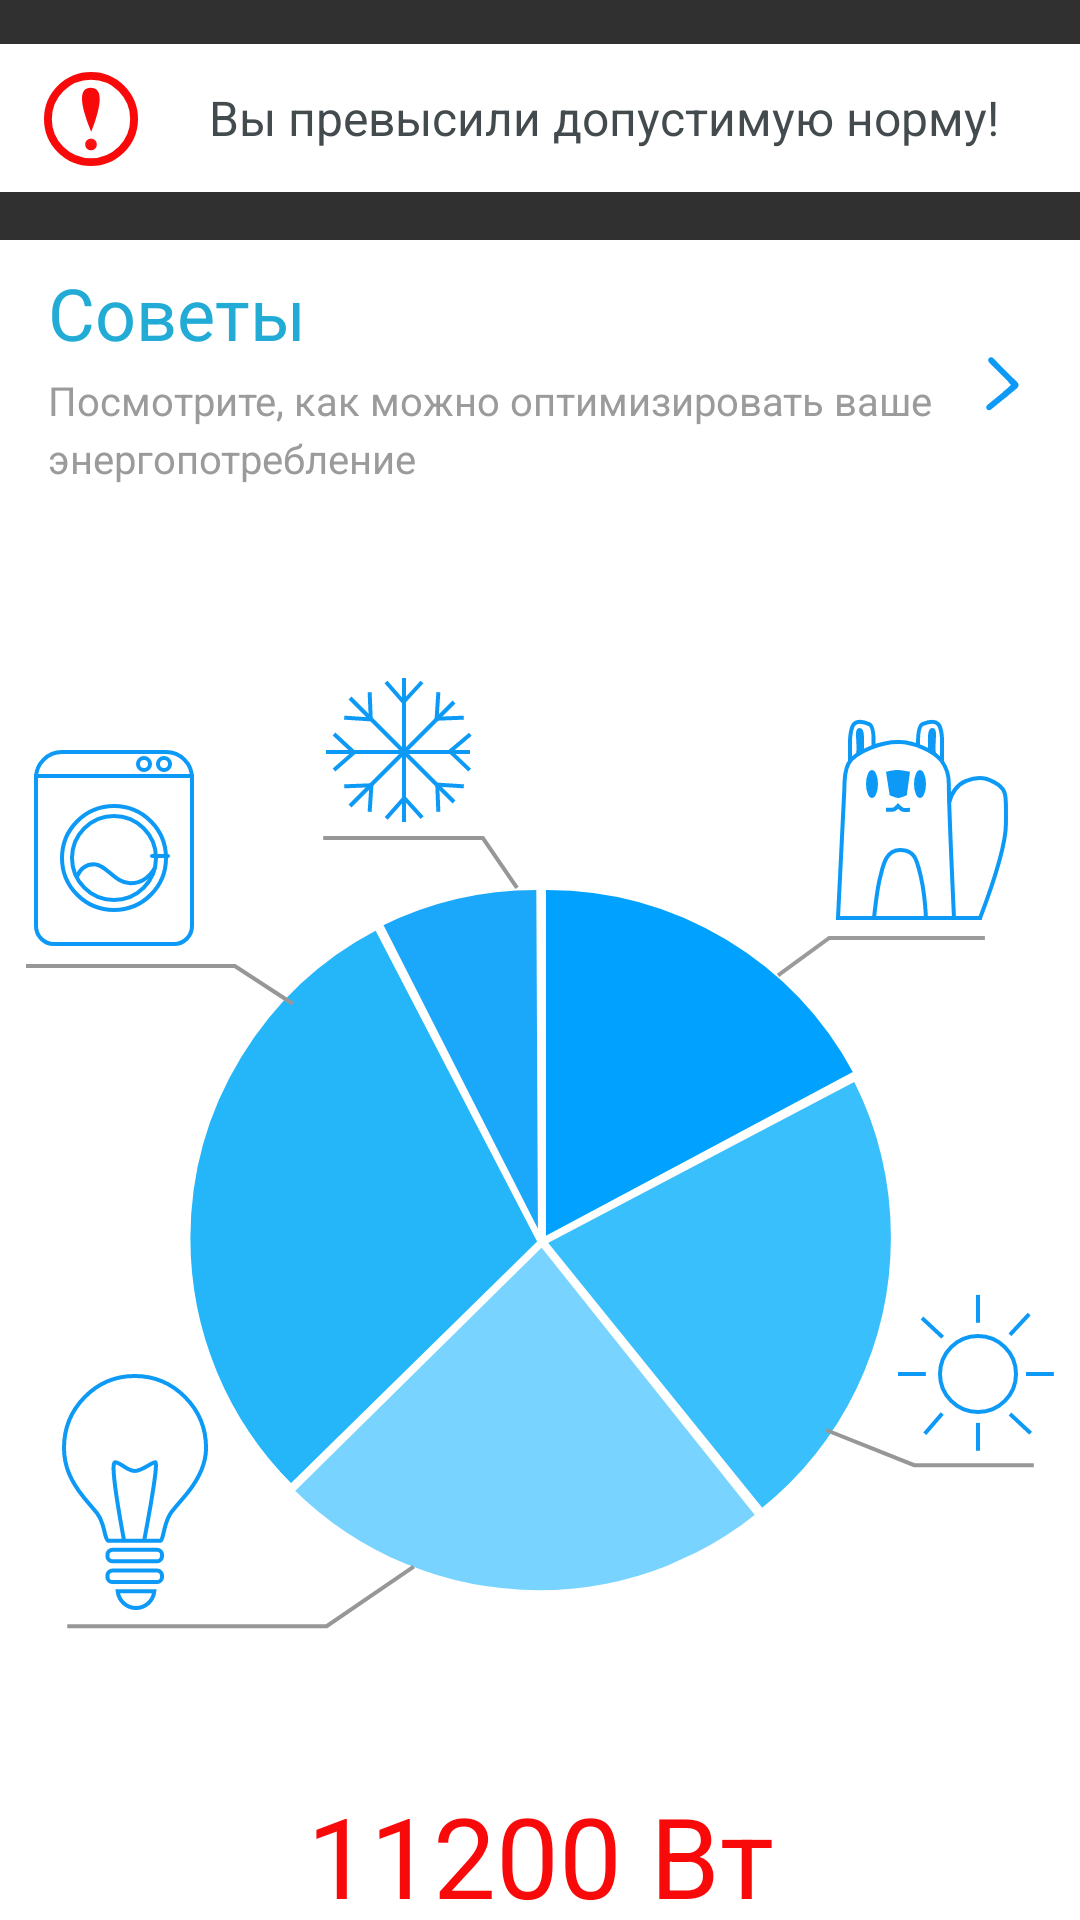

Screen size 1080px x 1920px. Icon name, then its center in pixels as (x,y):
attantion: (91,119)
